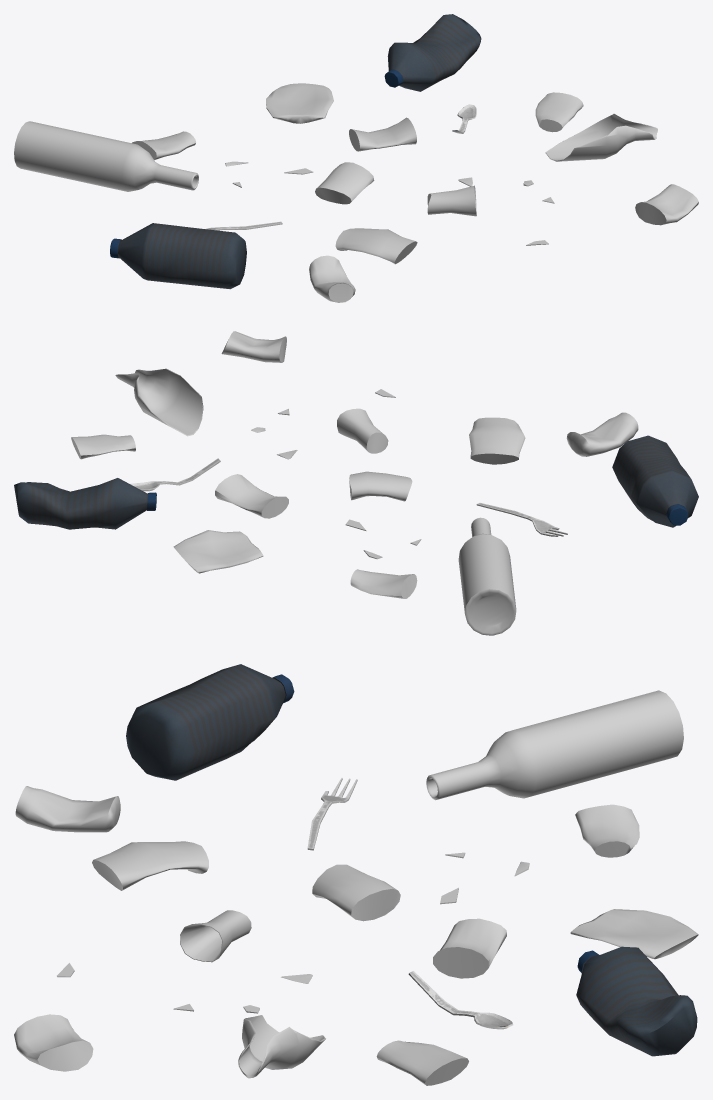
Rendered from SM_Garbage_B.fbx.
3 renders of one model, top to bottom at view 1: azimuth 30°, elevation 25°; view 2: azimuth 150°, elevation 25°; view 3: azimuth 270°, elevation 25°, orthographic. The views are drawn at different scales.
Visible parts, largest first — view 1: SM_Bottle_Trash_A.002, SM_Water_Bottle_B.002, SM_Water_Bottle_C.002, SM_Bottle_Trash_B.001, model_4.017, model_4.019, model_4.012, model_4.018, model_4.014, model_4.013, model_4.021, model_4.020 (+1 smaller); view 2: SM_Water_Bottle_C.002, SM_Water_Bottle_B.002, SM_Bottle_Trash_A.002, SM_Bottle_Trash_B.001, model_4.017, model_4.019, model_4.014, model_4.013, model_4.018, model_4.007, model_4.012, model_4.020 (+3 smaller); view 3: SM_Bottle_Trash_A.002, SM_Water_Bottle_B.002, SM_Water_Bottle_C.002, model_4.017, model_4.019, model_4.014, model_4.012, SM_Bottle_Trash_B.001, model_4.018, model_4.013, model_4.007, model_4.021 (+3 smaller).
Part boxes in pixels (bbox=[...]): SM_Bottle_Trash_A.002: bbox=[14, 121, 198, 191]; SM_Water_Bottle_B.002: bbox=[110, 223, 246, 289]; SM_Water_Bottle_C.002: bbox=[384, 14, 481, 91]; SM_Bottle_Trash_B.001: bbox=[545, 113, 657, 161]; model_4.017: bbox=[266, 83, 333, 123]; model_4.019: bbox=[335, 228, 417, 264]; model_4.012: bbox=[635, 184, 698, 225]; model_4.018: bbox=[315, 162, 374, 204]; model_4.014: bbox=[309, 255, 355, 302]; model_4.013: bbox=[349, 117, 416, 151]; model_4.021: bbox=[535, 92, 583, 132]; model_4.020: bbox=[427, 185, 476, 216]; SM_Water_Bottle_C.002: bbox=[14, 478, 156, 529]; SM_Water_Bottle_B.002: bbox=[612, 435, 698, 527]; SM_Bottle_Trash_A.002: bbox=[458, 517, 516, 635]; SM_Bottle_Trash_B.001: bbox=[115, 368, 203, 436]; model_4.017: bbox=[173, 530, 263, 573]; model_4.019: bbox=[469, 417, 525, 464]; model_4.014: bbox=[566, 412, 638, 456]; model_4.013: bbox=[215, 474, 288, 518]; model_4.018: bbox=[349, 471, 412, 501]; model_4.007: bbox=[350, 569, 417, 598]; model_4.012: bbox=[221, 331, 286, 362]; model_4.020: bbox=[337, 408, 388, 453]; SM_Bottle_Trash_A.002: bbox=[426, 690, 683, 800]; SM_Water_Bottle_B.002: bbox=[126, 664, 294, 780]; SM_Water_Bottle_C.002: bbox=[576, 946, 697, 1056]; model_4.017: bbox=[570, 909, 698, 959]; model_4.019: bbox=[92, 841, 208, 890]; model_4.014: bbox=[15, 786, 120, 832]; model_4.012: bbox=[14, 1014, 93, 1071]; SM_Bottle_Trash_B.001: bbox=[238, 1015, 325, 1078]; model_4.018: bbox=[312, 864, 400, 921]; model_4.013: bbox=[433, 918, 506, 978]; model_4.007: bbox=[575, 804, 639, 857]; model_4.021: bbox=[376, 1040, 468, 1085].
Size of the model in its own units: 152 by 14.02 by 115.
